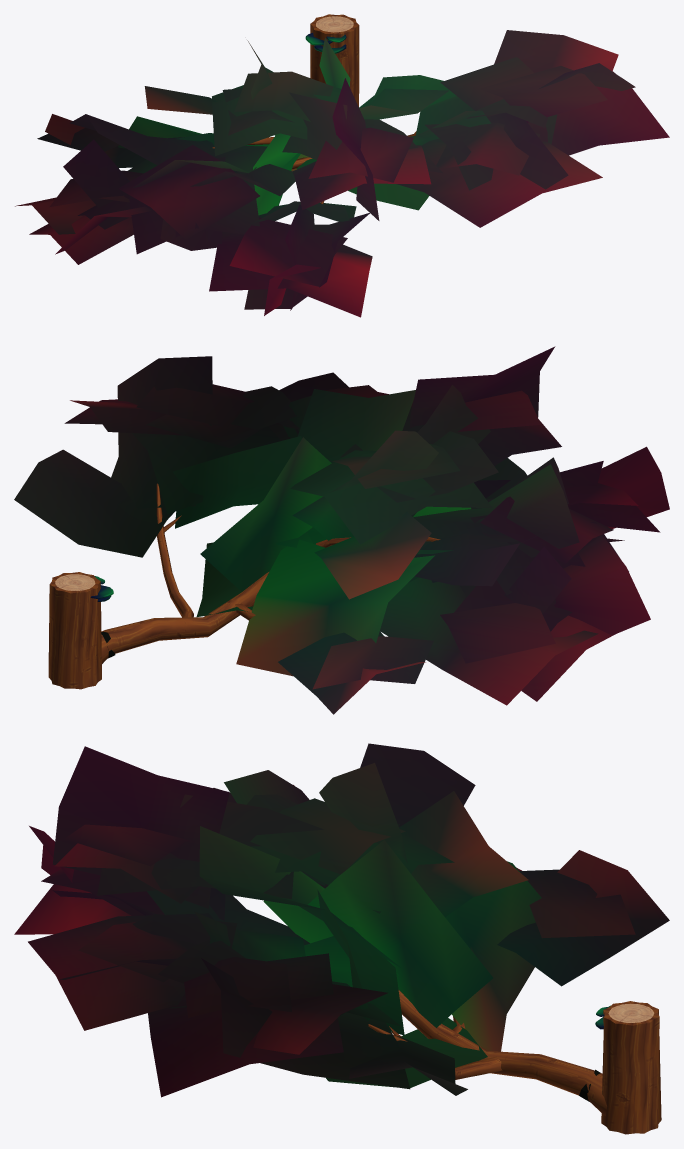
Rendered from obj_harvests_trees_pine01_p07.fbx.
3 renders of one model, top to bottom at view 1: azimuth 30°, elevation 25°; view 2: azimuth 150°, elevation 25°; view 3: azimuth 270°, elevation 25°, orthographic. The views are drawn at different scales.
Parts seen in each view (by area): view 1: obj_harvests_trees_pine01_p07; view 2: obj_harvests_trees_pine01_p07; view 3: obj_harvests_trees_pine01_p07.
Part boxes in pixels (x1,y1,x2,y2): obj_harvests_trees_pine01_p07: (15, 14, 669, 317); obj_harvests_trees_pine01_p07: (14, 346, 669, 714); obj_harvests_trees_pine01_p07: (14, 743, 669, 1134).
Size of the model in its own units: 51.47 by 18.35 by 43.82.
